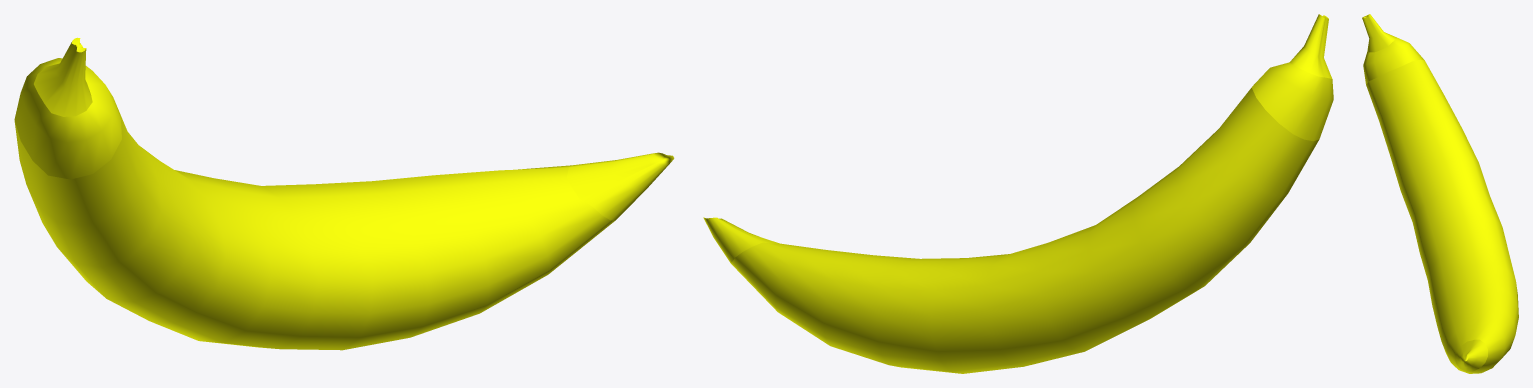
The model's file is Banana_export.fbx.
3 renders of one model, left to right at view 1: azimuth 30°, elevation 25°; view 2: azimuth 150°, elevation 25°; view 3: azimuth 270°, elevation 25°, orthographic. The views are drawn at different scales.
Parts seen in each view (by area): view 1: Banana; view 2: Banana; view 3: Banana.
Boxes of the visible parts, x1=… form: Banana: x1=14, y1=37, x2=674, y2=350; Banana: x1=703, y1=14, x2=1333, y2=373; Banana: x1=1362, y1=14, x2=1518, y2=373.
Size of the model in its own units: 4.6 by 2.89 by 1.74.
